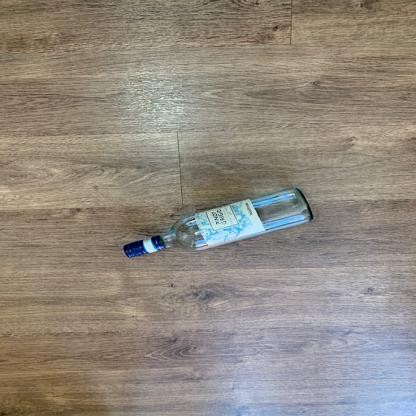trash: (117, 186, 323, 259)
